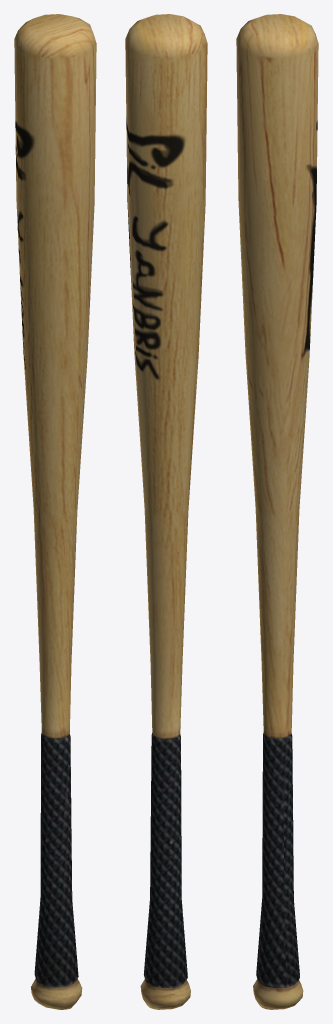
The model's file is Wooden Bat.fbx.
3 views of the same model, side by side, from view 1: azimuth 90°, elevation 25°; view 2: azimuth 150°, elevation 25°; view 3: azimuth 330°, elevation 25° (orthographic).
Visible parts, largest first — view 1: Wooden Bat; view 2: Wooden Bat; view 3: Wooden Bat.
Boxes of the visible parts, left/top/right/bottom form: Wooden Bat: left=14, top=14, right=96, bottom=1009; Wooden Bat: left=125, top=14, right=207, bottom=1009; Wooden Bat: left=236, top=14, right=318, bottom=1009.
Size of the model in its own units: 66.61 by 875 by 66.61.
